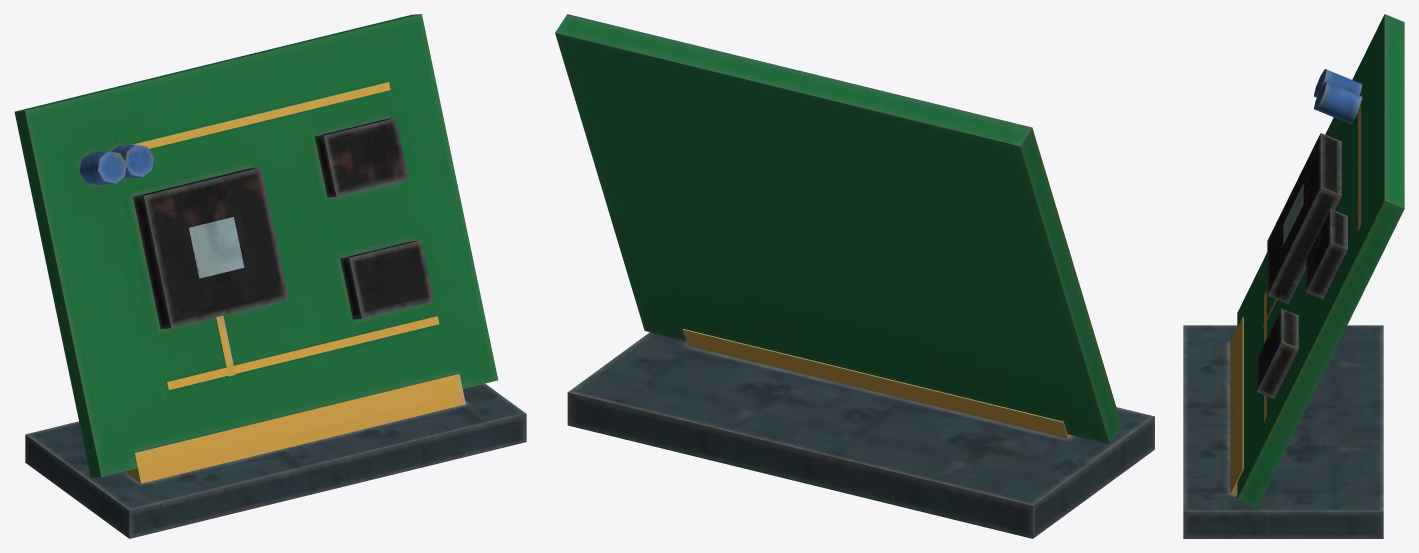
Rendered from electronics.glb.
3 renders of one model, left to right at view 1: azimuth 30°, elevation 25°; view 2: azimuth 150°, elevation 25°; view 3: azimuth 270°, elevation 25°, orthographic. The views are drawn at different scales.
Visible parts, largest first — view 1: te_res_electronics; view 2: te_res_electronics; view 3: te_res_electronics.
Boxes of the visible parts, x1,y1,x2,y2 form: te_res_electronics: [14, 14, 526, 538]; te_res_electronics: [555, 14, 1154, 538]; te_res_electronics: [1183, 14, 1404, 538].
Bounding box in the file's own units: 0.44 × 0.3723 × 0.2209.
Materials: 1 (1 with a texture image).
